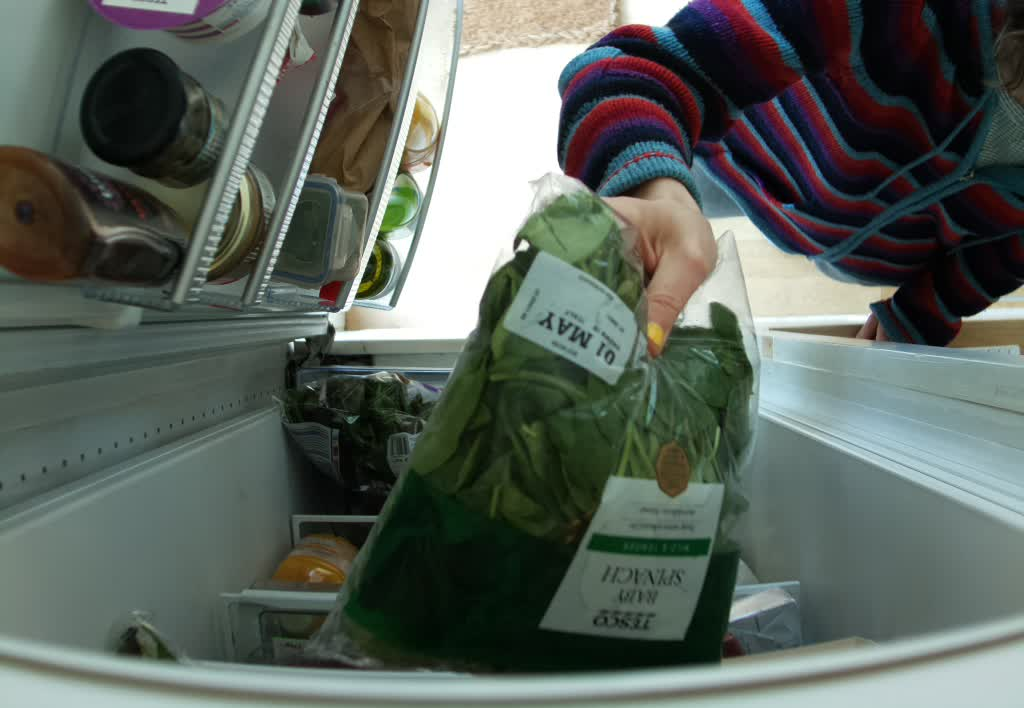salad: (333, 189, 742, 666), (277, 368, 433, 512)
